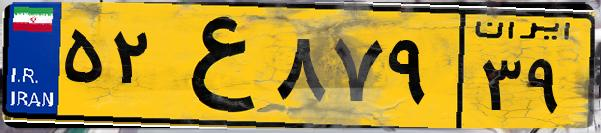2: (110, 28, 158, 98)
3: (475, 38, 525, 113)
5: (57, 26, 110, 100)
7: (330, 28, 385, 110)
8: (270, 28, 330, 110)
9: (385, 28, 445, 110), (525, 38, 570, 115)
ع: (158, 12, 270, 120)
